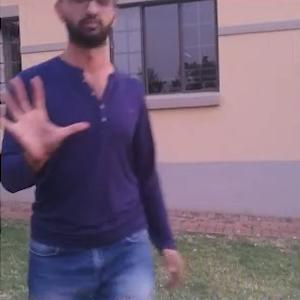follow_hand: (0, 70, 92, 169)
